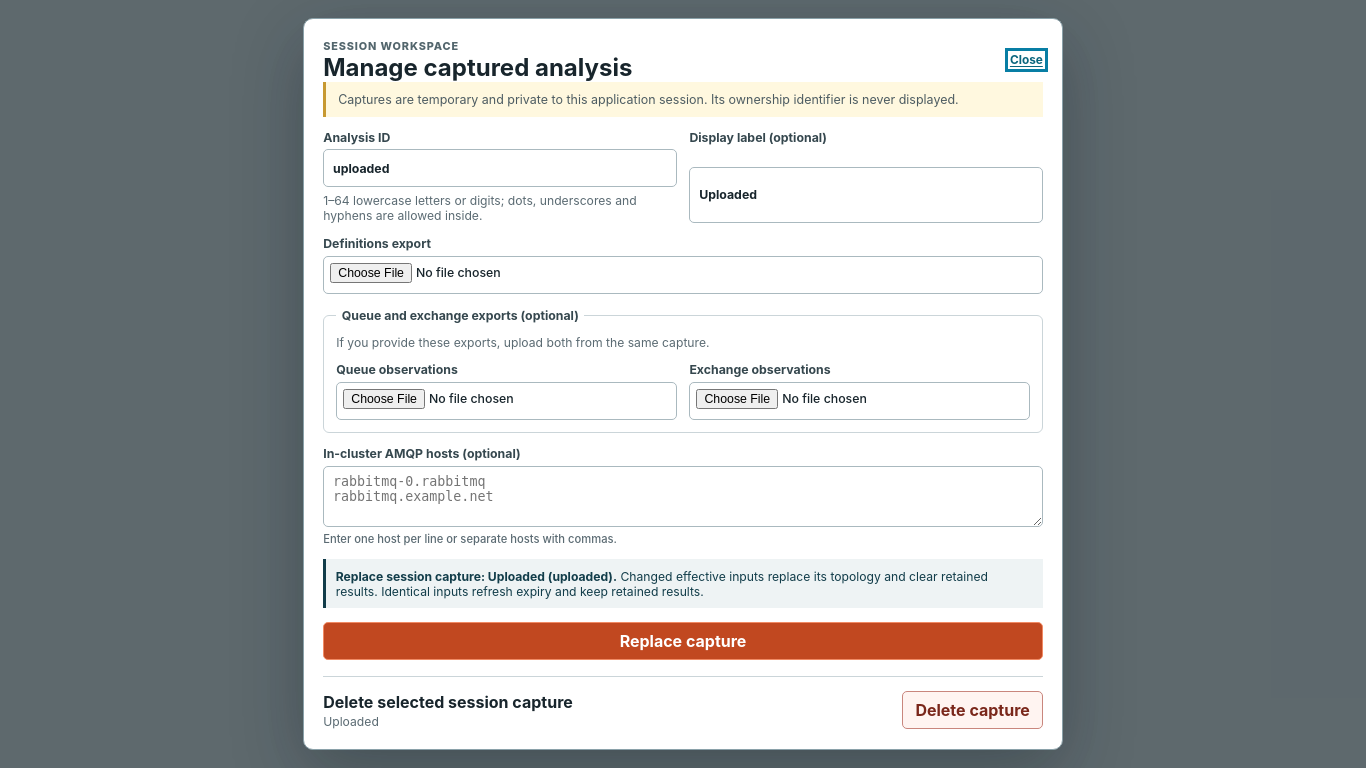
Test case: CaptureManager › identifies the action for typed analysis ID uploaded from the caller's session catalogue
Clear the field labelled "Analysis ID": (500, 168) [323,149,677,187]
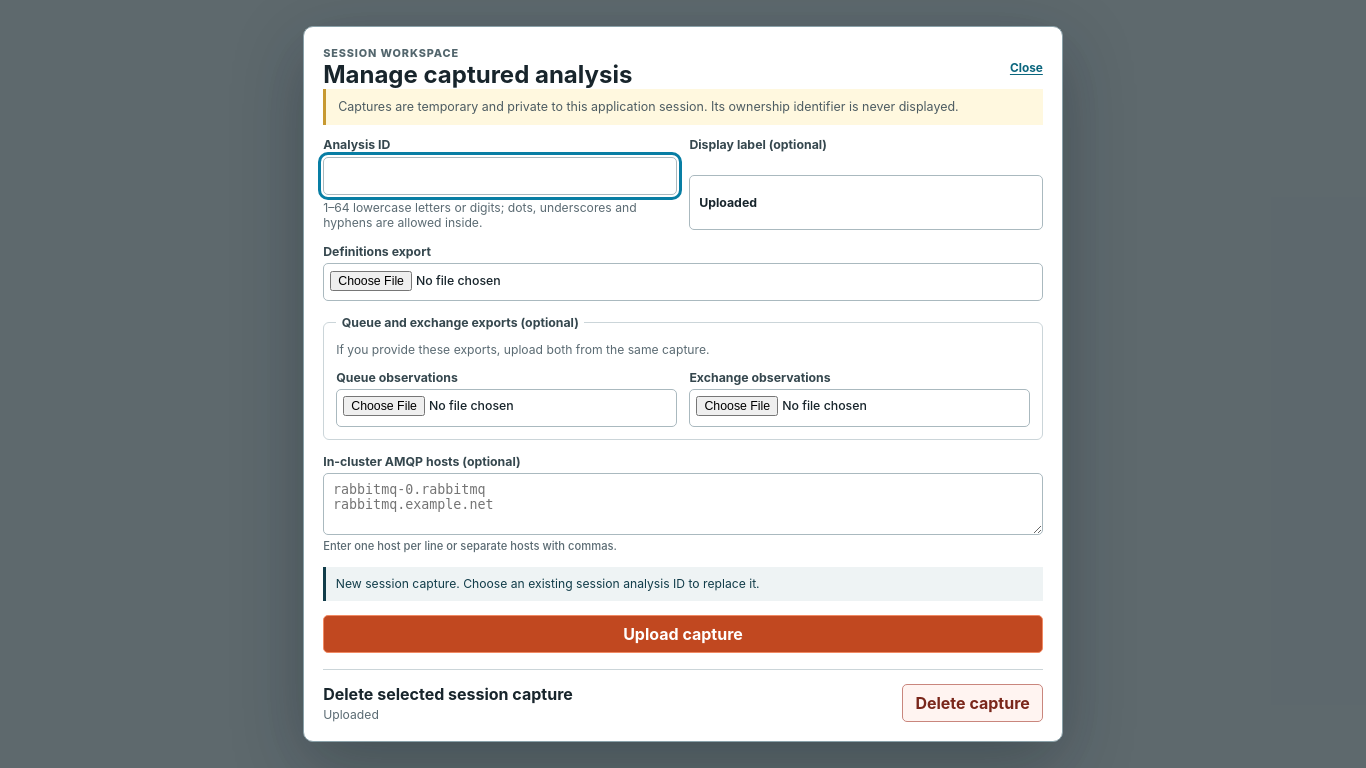
In the field labelled "Analysis ID": (500, 176) [323,157,677,195], type "uploaded"
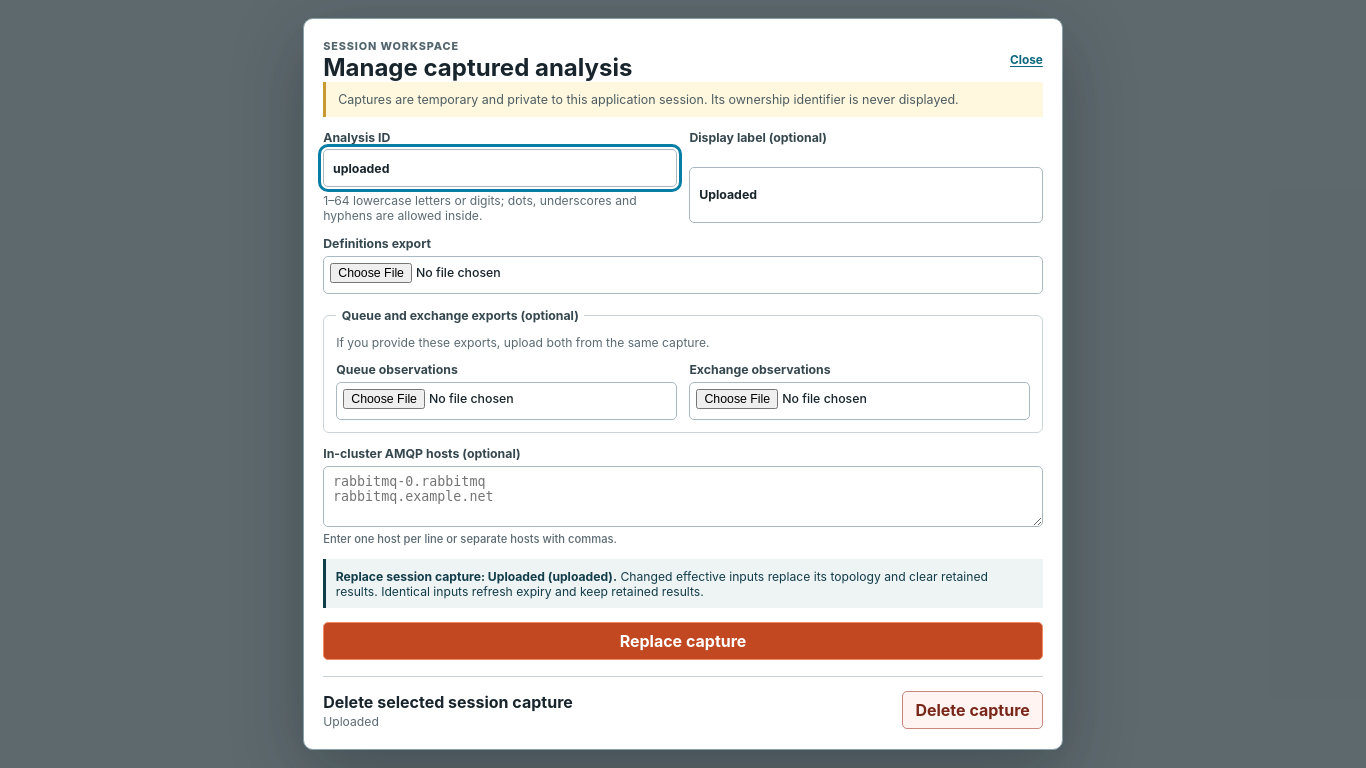
Expected: the button "Replace capture" is enabled, [323,622,1043,660]
Now the text "Identical inputs refresh expiry and keep retained results" is shown, box [336,569,988,599]
